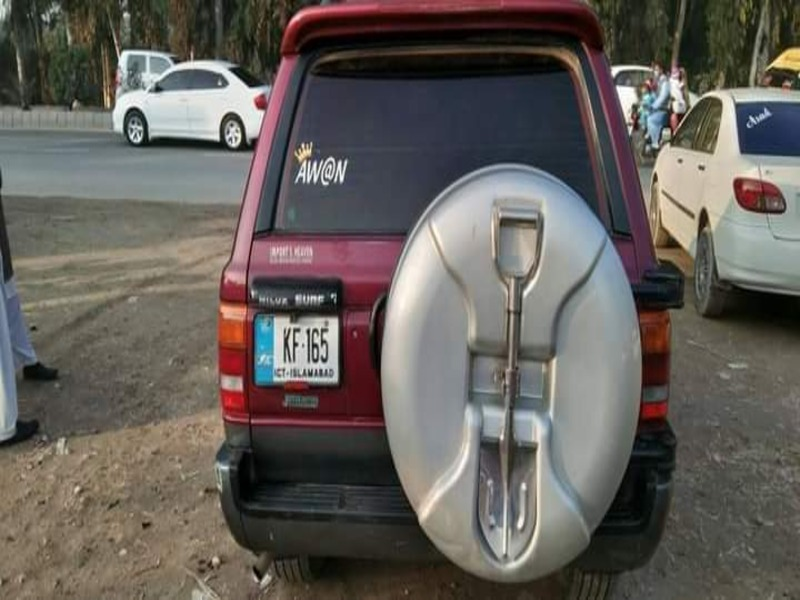License Plate: (249, 307, 345, 391)
